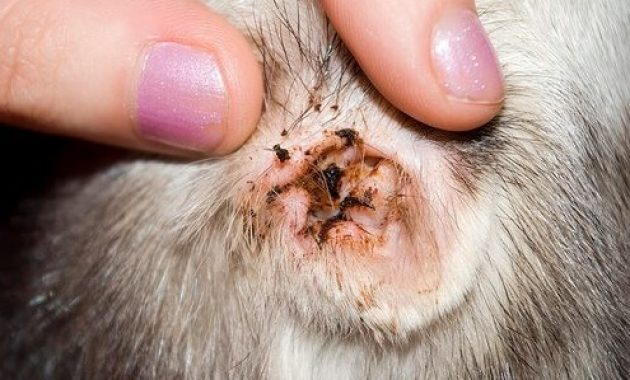tungau: (299, 161, 374, 253), (326, 124, 366, 157), (268, 141, 297, 175)
